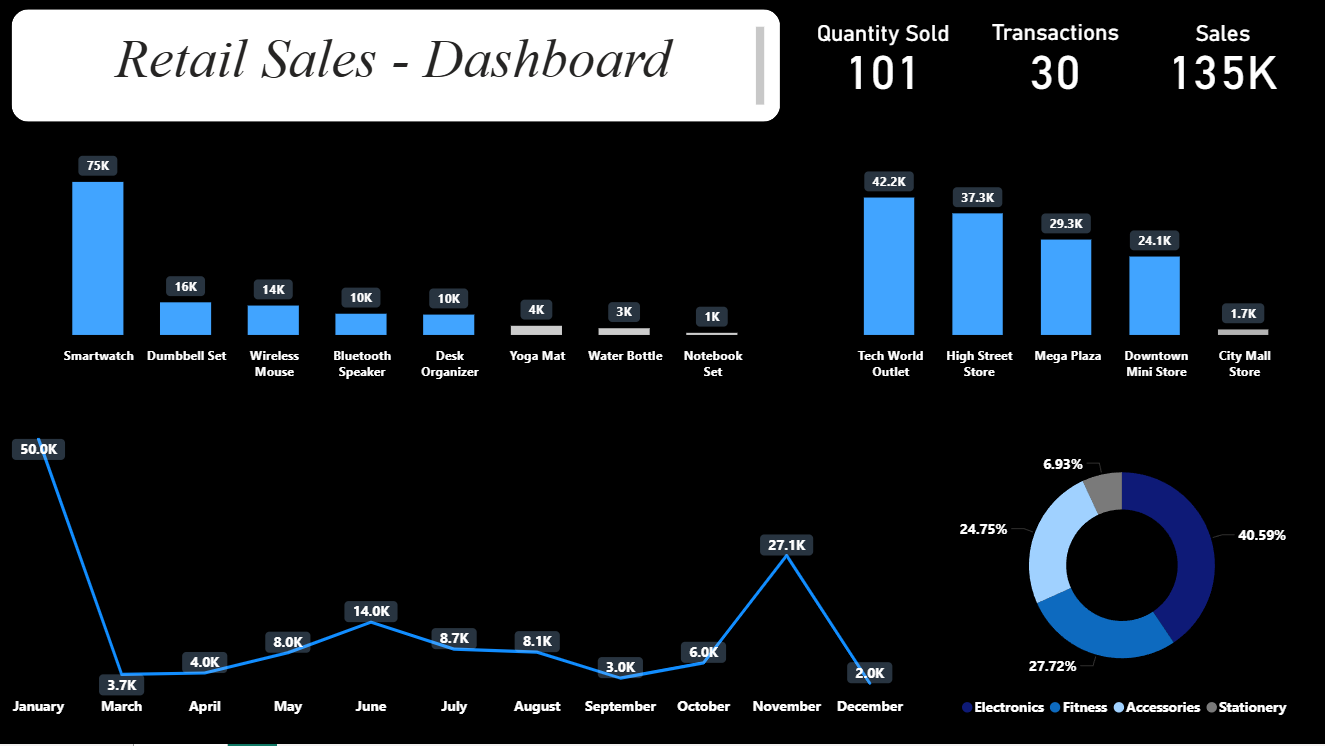

This screenshot's page, from the dashboard's own definition file:
{"tool":"powerbi","page":{"name":"Page 1","canvas":[1280,720],"ordinal":0},"visuals":[{"type":"group","id":"g1","title":"Group 1","box":[12.1,10.9,742,108.6],"z":0},{"type":"shape","box":[764.9,10.9,503.1,108.6],"z":0,"group":"g2"},{"type":"shape","box":[763.7,120.6,516.4,269],"z":0,"group":"g4"},{"type":"shape","box":[0,389.7,903.6,325.7],"z":0,"group":"g5"},{"type":"shape","box":[880.7,389.7,399.3,325.7],"z":500,"group":"g6"},{"type":"shape","box":[12.1,10.9,742,108.6],"z":1000,"group":"g1"},{"type":"group","id":"g2","title":"Group 2","box":[764.9,10.9,503.1,108.6],"z":1000},{"type":"shape","box":[1.2,119.4,763.7,270.2],"z":1000,"group":"g3"},{"type":"lineChart","fields":{"Y":["Sum(data.total_sales_amount)"],"Category":["data.transaction_date.Variation.Date Hierarchy.Month"]},"box":[1.2,391.3,879.5,312.5],"z":1000,"group":"g5"},{"type":"textbox","box":[23.8,23,719.7,86.6],"z":2000,"group":"g1"},{"type":"group","id":"g3","title":"Group 3","box":[1.2,119.4,763.7,270.2],"z":2000},{"type":"donutChart","title":"Qty Vs Category","fields":{"Y":["Sum(data.total_quantity_sold)"],"Category":["data.category"]},"box":[899.2,400.9,370.4,302.8],"z":2000,"group":"g6"},{"type":"card","title":"Sales","fields":{"Values":["Sum(data.total_sales_amount)"]},"box":[1109.3,21.8,145.1,88.1],"z":3000,"group":"g2"},{"type":"group","id":"g4","title":"Group 4","box":[763.7,120.6,516.4,269],"z":3000},{"type":"clusteredColumnChart","title":"Sales Vs Store","fields":{"Y":["Sum(data.total_sales_amount)"],"Category":["data.store_name"]},"box":[776.2,134.3,492.2,242.5],"z":3000,"group":"g4"},{"type":"card","title":"Quantity Sold","fields":{"Values":["Sum(data.total_quantity_sold)"]},"box":[777.5,21.8,152.9,88.1],"z":4000,"group":"g2"},{"type":"group","id":"g5","title":"Group 5","box":[0,389.7,903.6,325.7],"z":4000},{"type":"card","title":"Transactions","fields":{"Values":["Sum(data.number_of_transactions)"]},"box":[944.8,20.6,150,89.3],"z":5000,"group":"g2"},{"type":"group","id":"g6","title":"Group 6","box":[880.7,389.7,399.3,325.7],"z":5000},{"type":"clusteredColumnChart","title":"Sales Vs Product","fields":{"Y":["Sum(data.total_sales_amount)"],"Category":["data.product_name"]},"box":[11.8,120.1,742,255.8],"z":8000,"group":"g3"}]}

Visuals, with their boxes in screenshot pixels (x1, y1, x2, y2), scaled from the page's 1280x720 canvas onto the 1325x746 screenshot:
"Group 1" group: x1=13, y1=11, x2=781, y2=124
shape: x1=792, y1=11, x2=1313, y2=124
shape: x1=791, y1=125, x2=1324, y2=404
shape: x1=0, y1=404, x2=935, y2=741
shape: x1=912, y1=404, x2=1324, y2=741
shape: x1=13, y1=11, x2=781, y2=124
"Group 2" group: x1=792, y1=11, x2=1313, y2=124
shape: x1=1, y1=124, x2=792, y2=404
lineChart - Sum(data.total_sales_amount) x data.transaction_date.Variation.Date Hierarchy.Month: x1=1, y1=405, x2=912, y2=729
textbox: x1=25, y1=24, x2=770, y2=114
"Group 3" group: x1=1, y1=124, x2=792, y2=404
"Qty Vs Category" donutChart: x1=931, y1=415, x2=1314, y2=729
"Sales" card: x1=1148, y1=23, x2=1298, y2=114
"Group 4" group: x1=791, y1=125, x2=1324, y2=404
"Sales Vs Store" clusteredColumnChart: x1=803, y1=139, x2=1313, y2=390
"Quantity Sold" card: x1=805, y1=23, x2=963, y2=114
"Group 5" group: x1=0, y1=404, x2=935, y2=741
"Transactions" card: x1=978, y1=21, x2=1133, y2=114
"Group 6" group: x1=912, y1=404, x2=1324, y2=741
"Sales Vs Product" clusteredColumnChart: x1=12, y1=124, x2=780, y2=389
